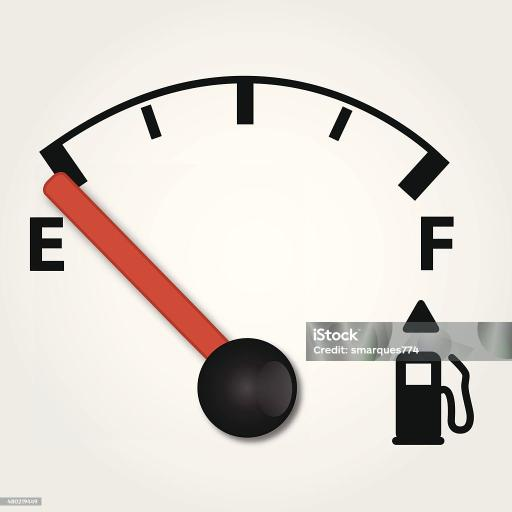empty: (22, 214, 70, 277)
fuel_icon: (388, 343, 475, 452)
full: (420, 218, 457, 273)
guage_area: (17, 66, 480, 459)
needle_center: (188, 326, 310, 442)
needle_tip: (38, 169, 90, 206)
